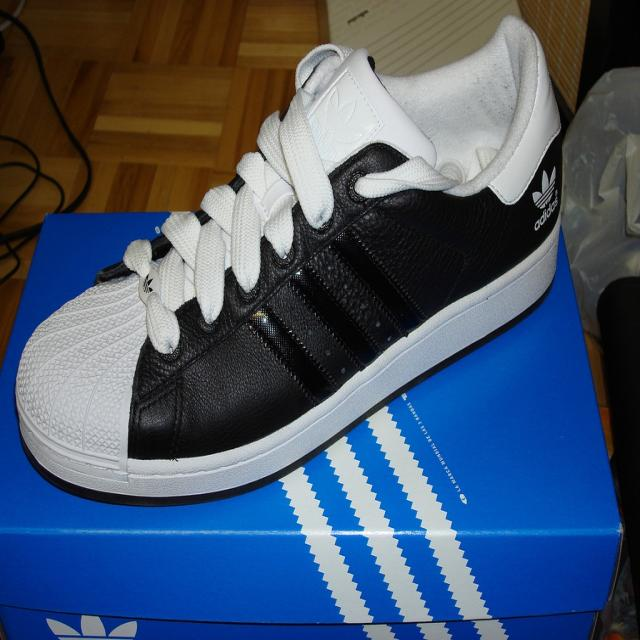adidas: (528, 163, 563, 237)
